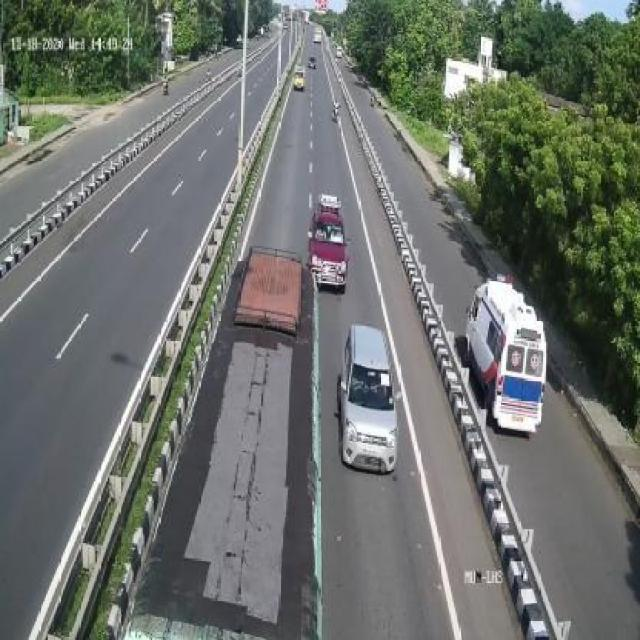car: (340, 318, 398, 477), (304, 190, 348, 296)
